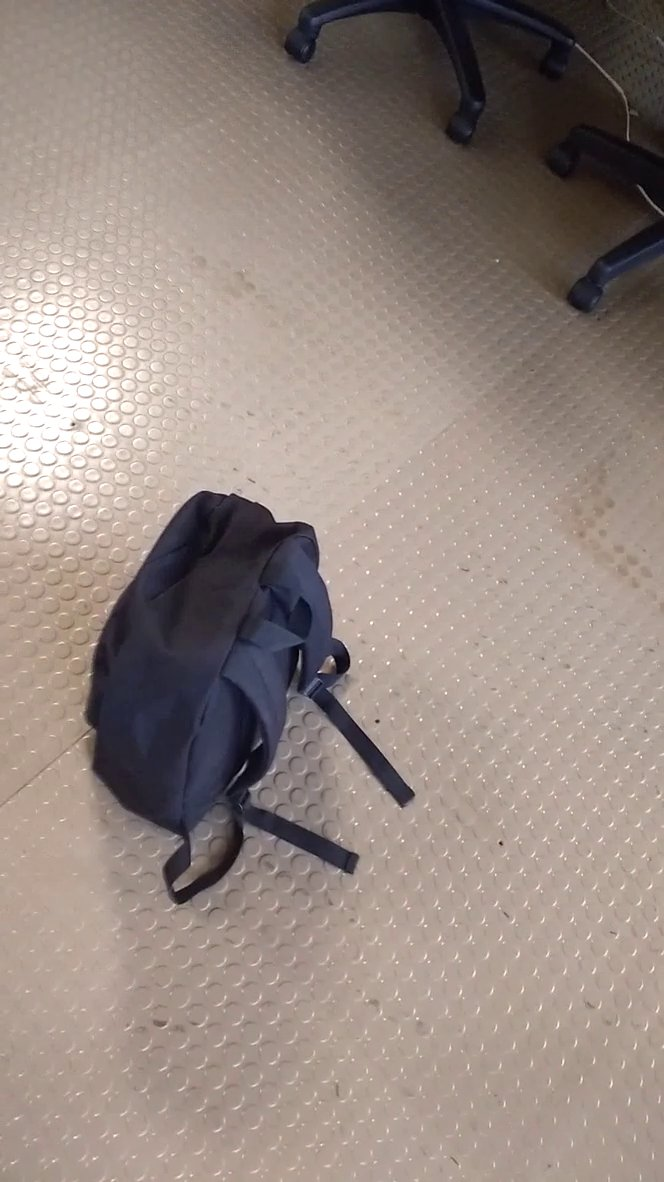bag: (80, 486, 434, 914)
